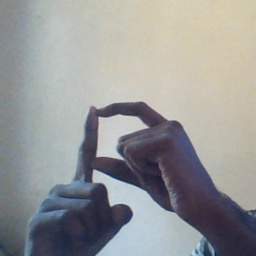D: (63, 97, 182, 217)
